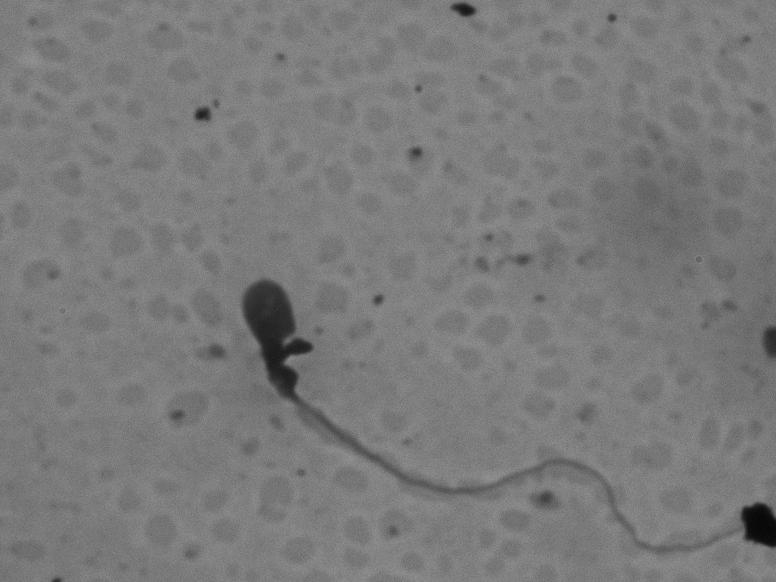Abnormal: (168, 259, 730, 559)
